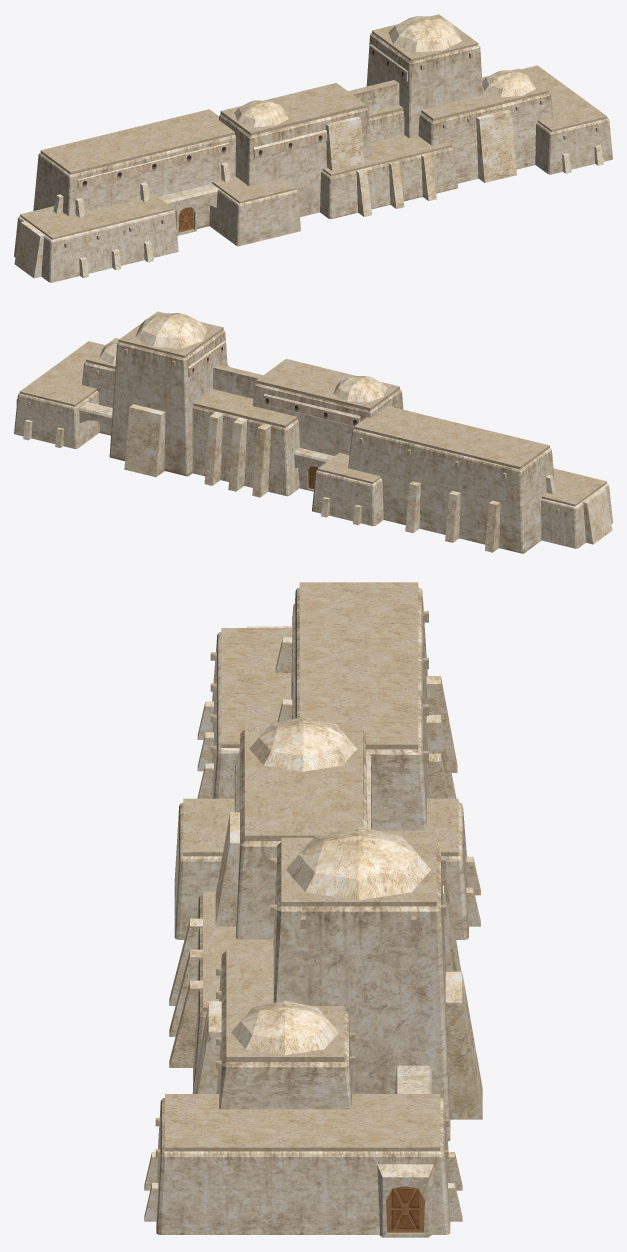
File: thm_tato_block_bldg_64x16_s01_l1.fbx
The picture shows the model from 3 angles, top to bottom: view 1: azimuth 30°, elevation 25°; view 2: azimuth 150°, elevation 25°; view 3: azimuth 270°, elevation 25°; orthographic projection. The views are drawn at different scales.
Visible parts, largest first — view 1: mesh_node; view 2: mesh_node; view 3: mesh_node.
Part boxes in pixels (<box>): mesh_node: <box>14,14,612,282</box>; mesh_node: <box>14,311,612,553</box>; mesh_node: <box>144,582,482,1237</box>.
Bounding box in the file's own units: 69.15 × 16.12 × 18.41.
